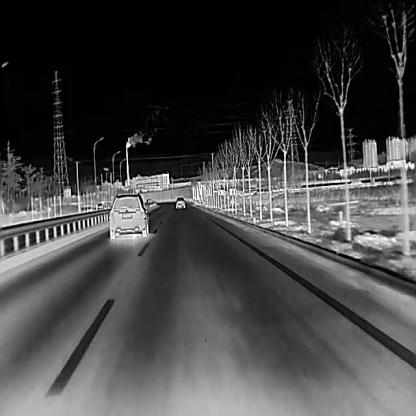car: (108, 192, 149, 240), (174, 196, 185, 209)
